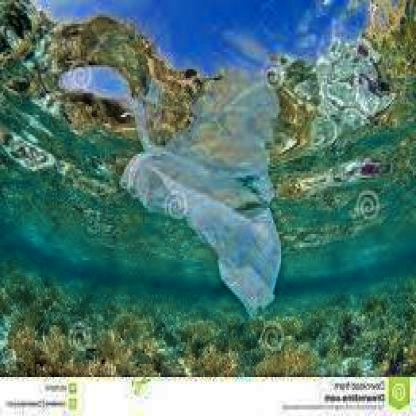pbag: (118, 156, 282, 318)
